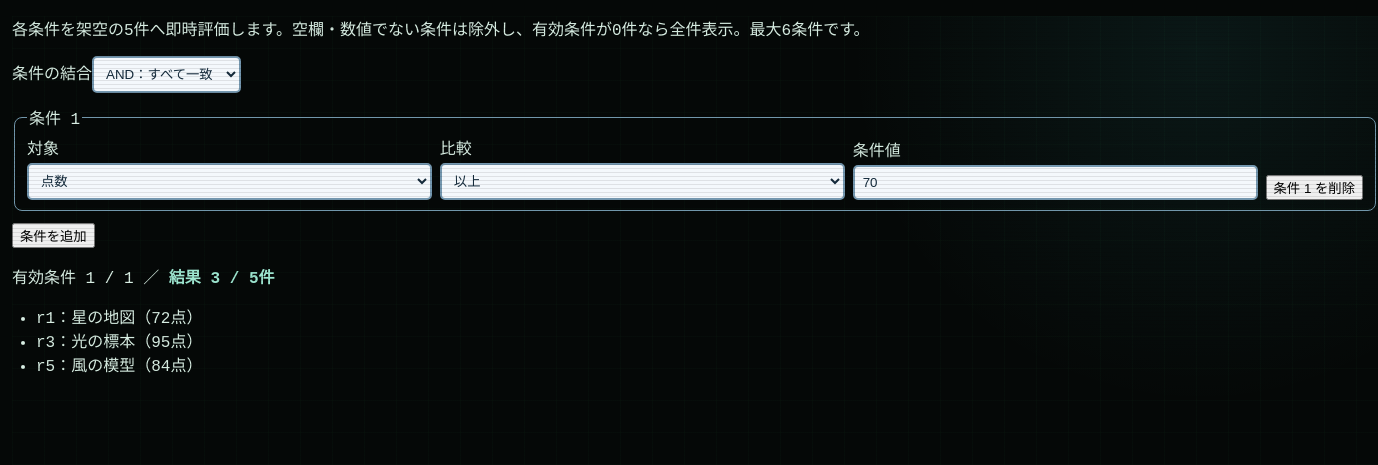
Scenario: filter text contains and empty-result cases are observable
Select "名称" in the dropdown labelled "対象" at (229, 181), box [27, 163, 432, 200]
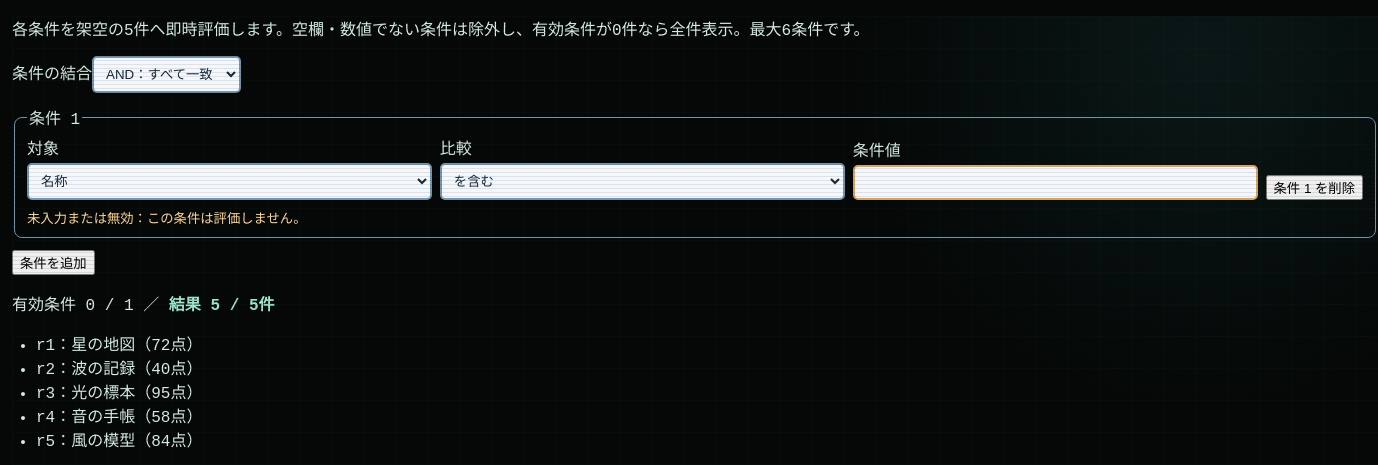
Check: the field labelled "条件値" is empty
Type "記録" into the field labelled "条件値".
click(1055, 182); type("記録")  # box [853, 165, 1258, 200]
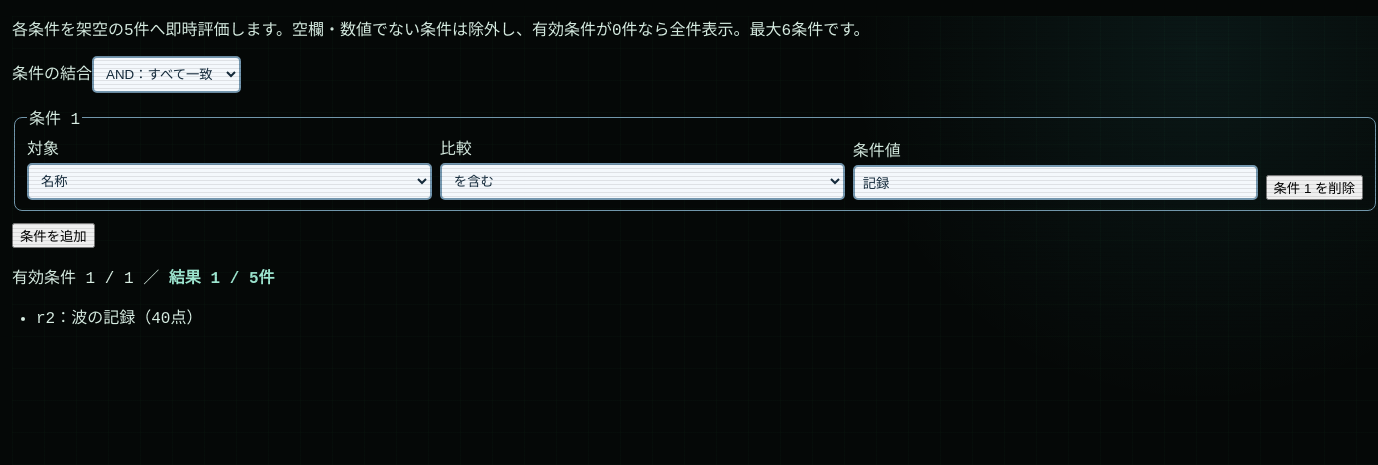
Check: the text "結果 1 / 5件" is shown, box [169, 264, 275, 288]
Replace the text in the field labelled "条件値" with "不存在" at (1055, 182), box [853, 165, 1258, 200]
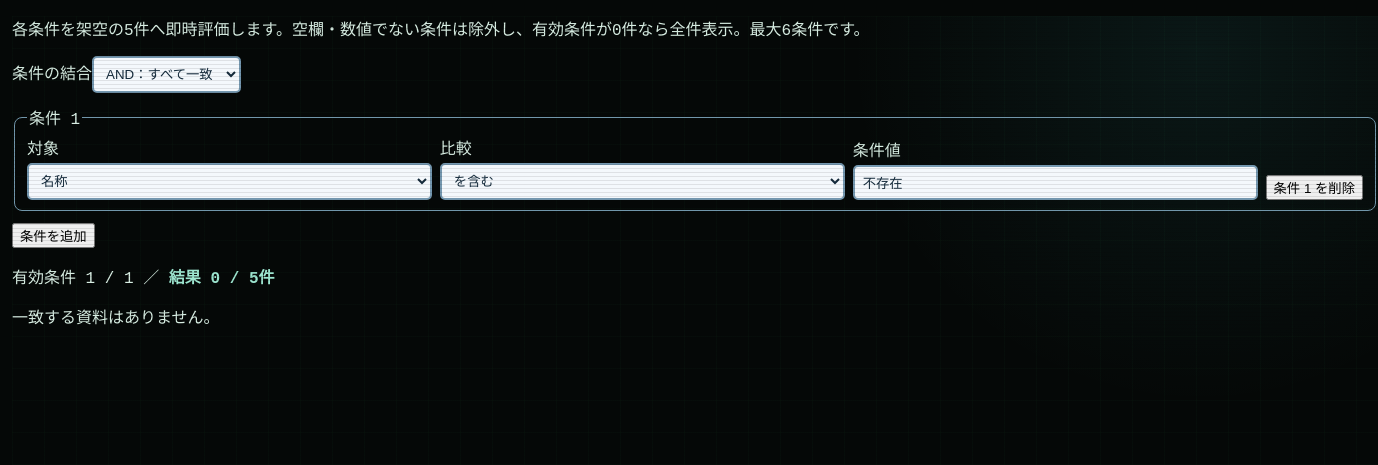
Check: the text "一致する資料はありません。" is shown, box [12, 310, 220, 328]
